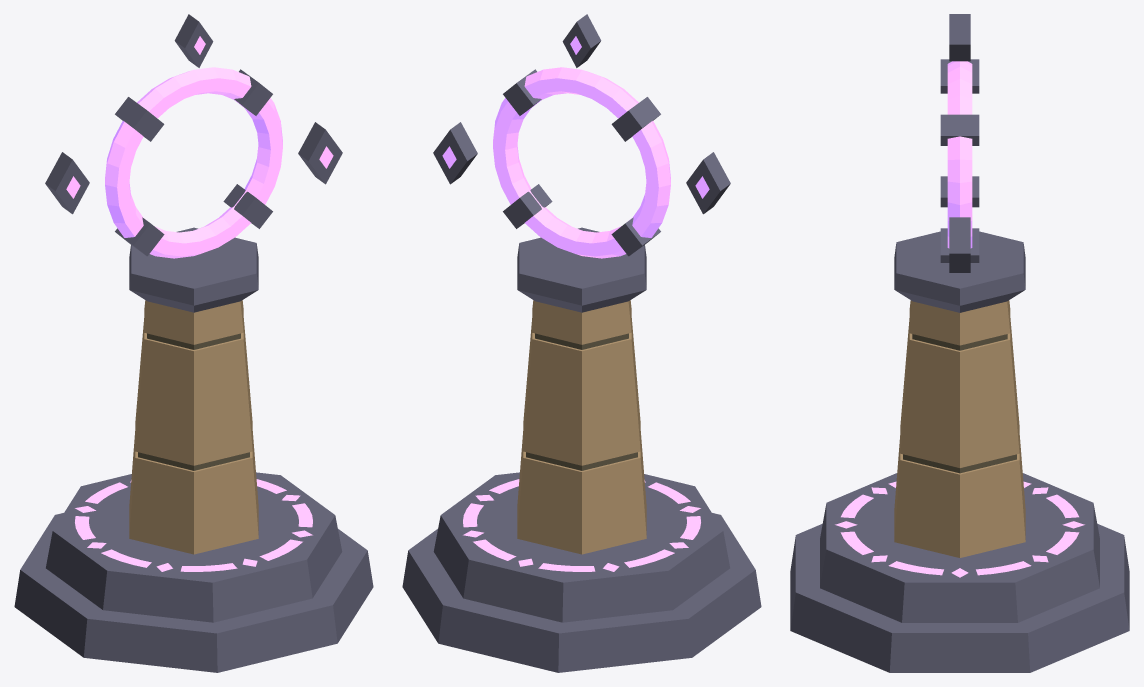
File: hazard_portal.glb
The picture shows the model from 3 angles, left to right: view 1: azimuth 30°, elevation 25°; view 2: azimuth 150°, elevation 25°; view 3: azimuth 270°, elevation 25°; orthographic projection.
Visible parts, largest first — view 1: PortalBody, PortalRing, PortalShard1, PortalShard2, PortalShard3; view 2: PortalBody, PortalRing, PortalShard1, PortalShard2, PortalShard3; view 3: PortalBody, PortalRing, PortalShard2, PortalShard3.
Boxes of the visible parts, bbox=[...] form: PortalBody: bbox=[14, 227, 373, 672]; PortalRing: bbox=[105, 67, 282, 258]; PortalShard1: bbox=[45, 152, 89, 214]; PortalShard2: bbox=[298, 122, 342, 184]; PortalShard3: bbox=[174, 14, 213, 67]; PortalBody: bbox=[402, 227, 761, 672]; PortalRing: bbox=[493, 67, 670, 258]; PortalShard1: bbox=[686, 152, 730, 214]; PortalShard2: bbox=[433, 122, 477, 184]; PortalShard3: bbox=[562, 14, 601, 67]; PortalBody: bbox=[790, 231, 1129, 672]; PortalRing: bbox=[940, 59, 979, 262]; PortalShard2: bbox=[949, 217, 970, 272]; PortalShard3: bbox=[949, 14, 970, 61].
Size of the model in its own units: 2.86 by 5.47 by 2.86.
